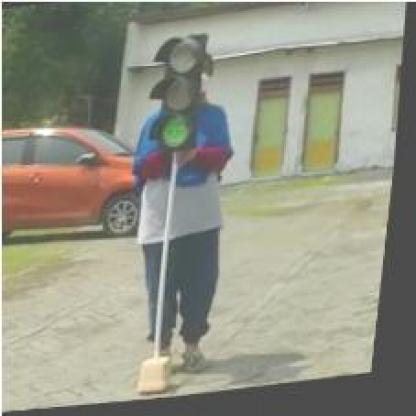green: (148, 34, 212, 157)
